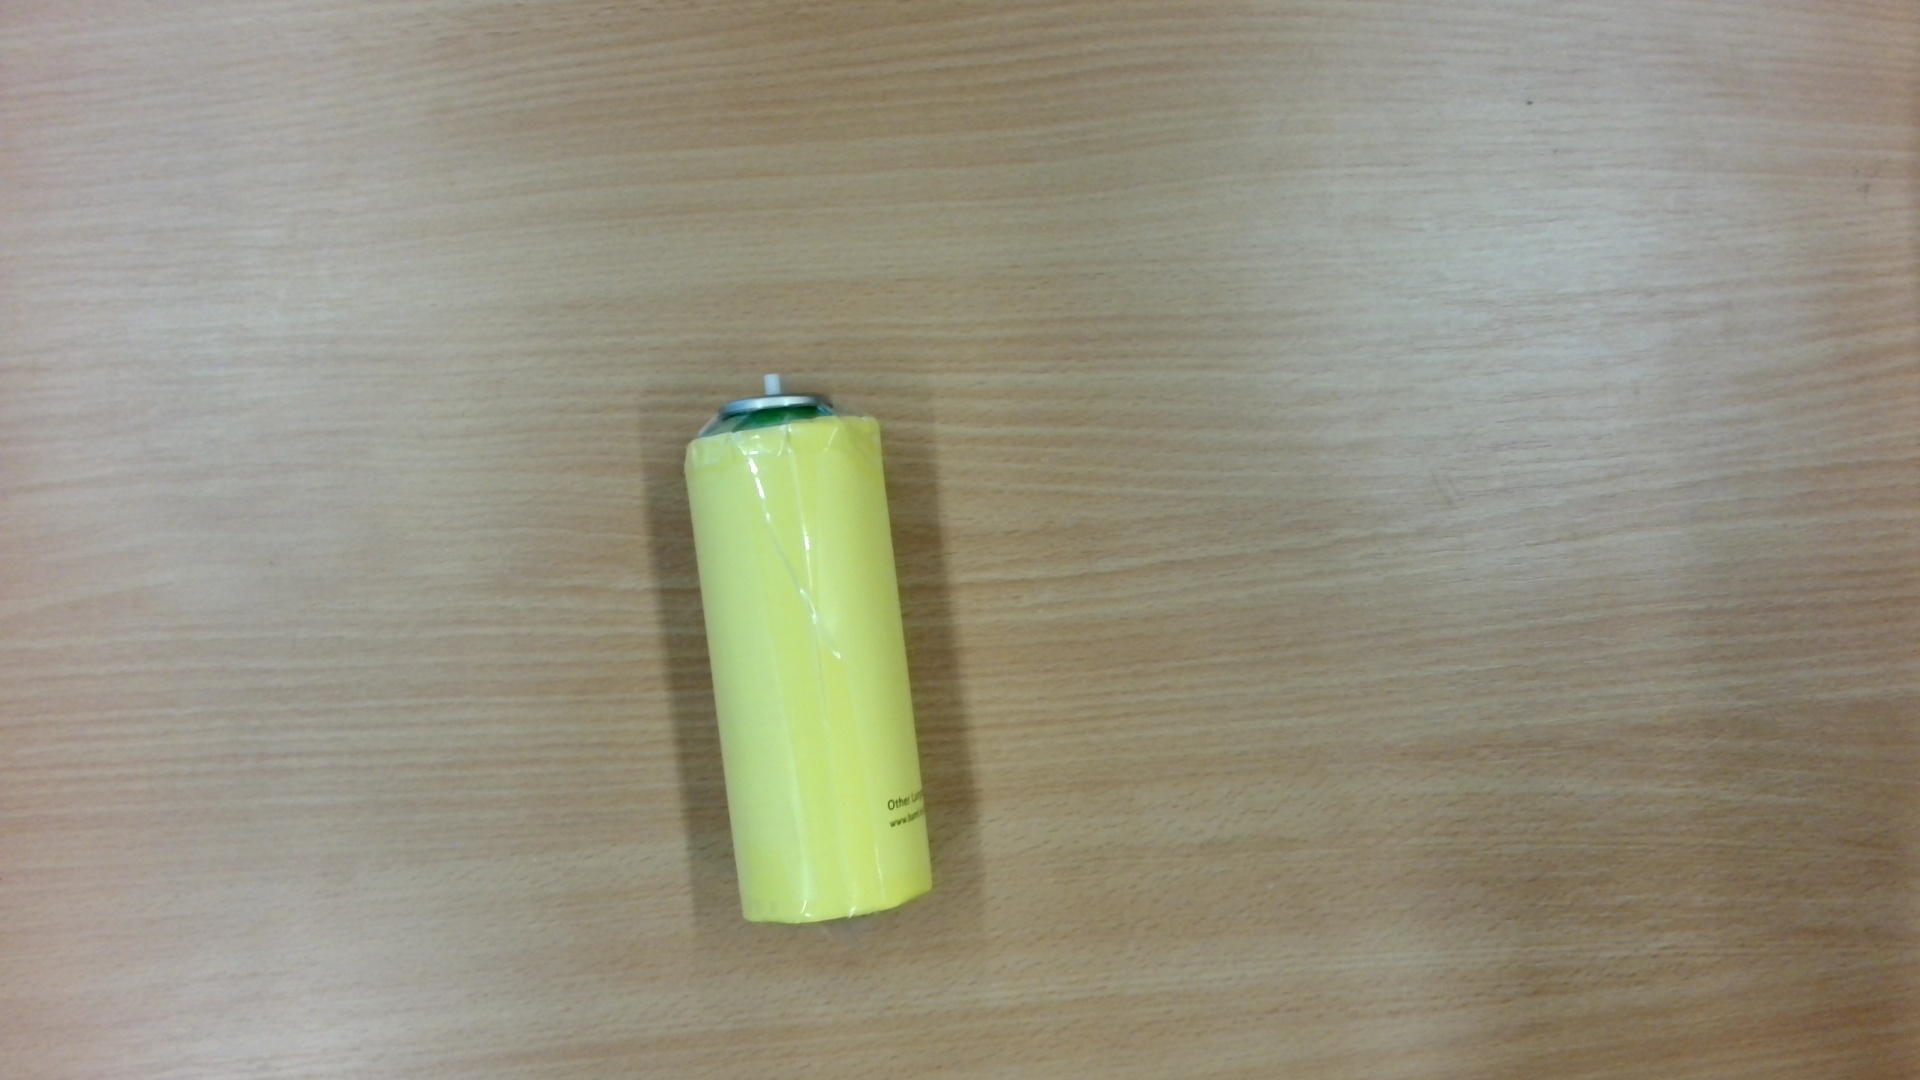Cylinder: (670, 367, 951, 936)
